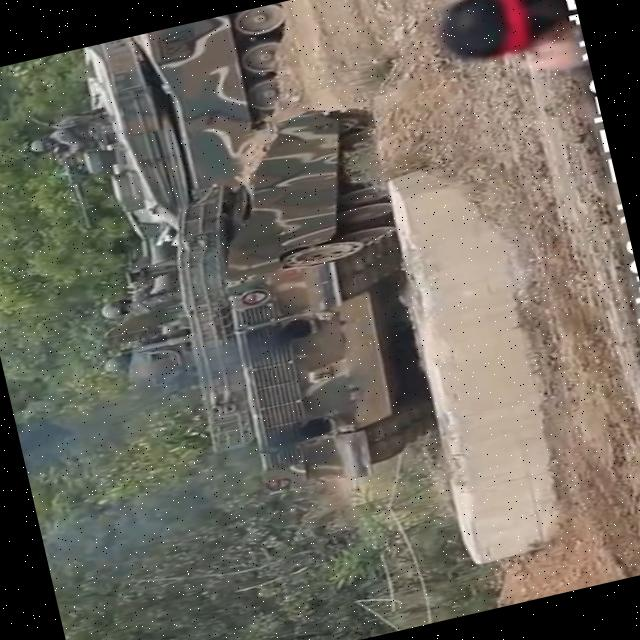korea tank: (56, 93, 452, 526)
